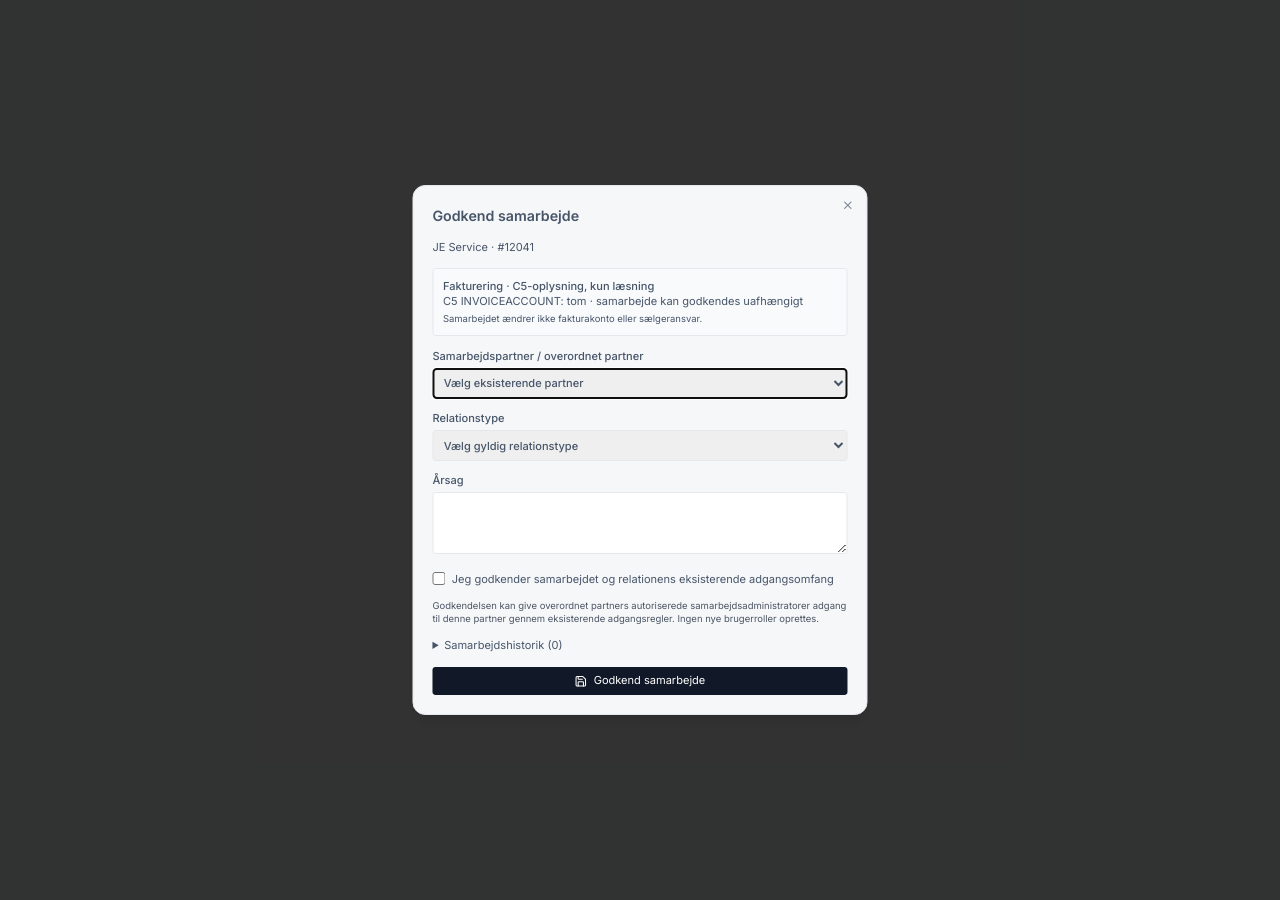
Scenario: permanent Backend cooperation actions › reviews dealer → dealer_customer independently of billing
Later steps or results of the test are not shown.
Expected: the text "C5 INVOICEACCOUNT: tom · samarbejde kan godkendes uafhængigt" is shown, [443,294,837,310]
Select "10295 · AB Lauridsen" in the dropdown labelled "Samarbejdspartner / overordnet partner" at (640, 383), box [432,368,848,399]
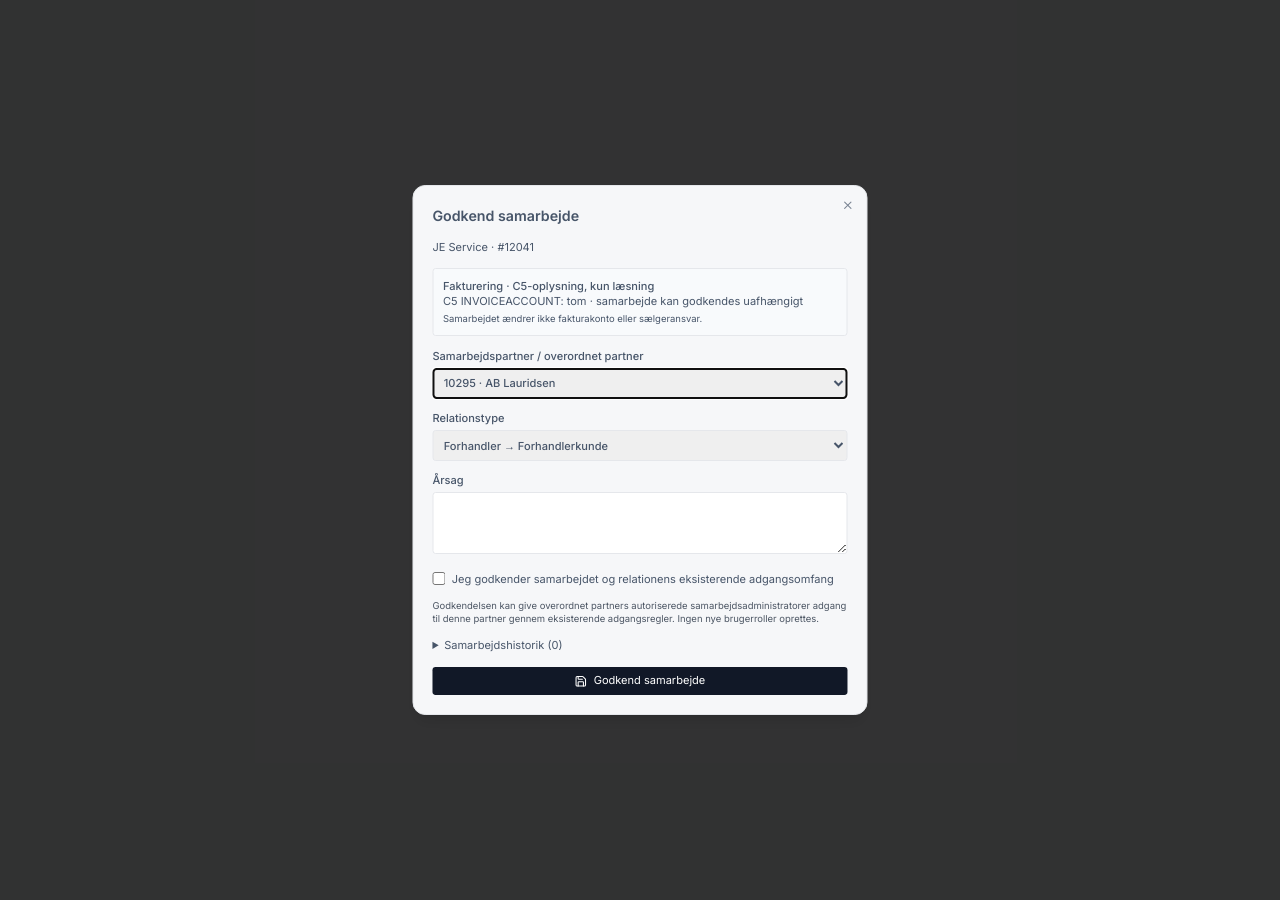
Now the dropdown labelled "Relationstype" shows "Forhandler → Forhandlerkunde", box [432,430,848,461]
